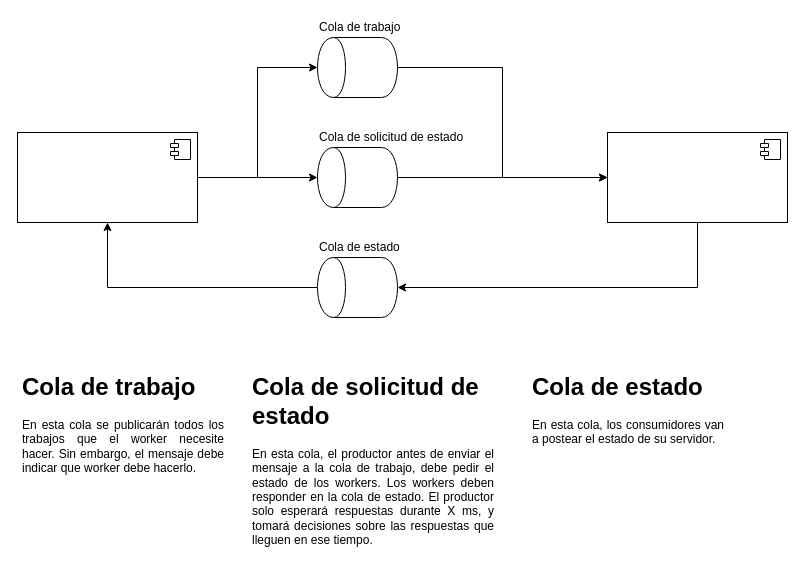
Image size: 805x564. Some labels were removed from this diagram. Each missing label, with the centre of its shape:
Consumer: (x=697, y=177)
Producer: (x=107, y=177)
